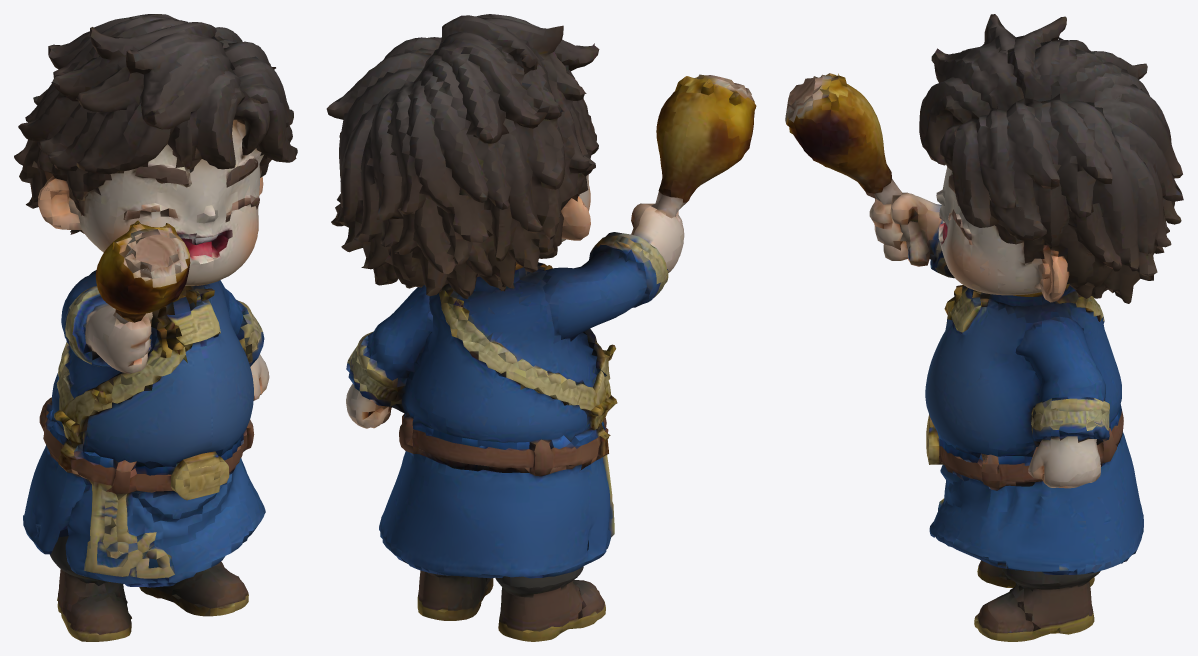
Rendered from guzangongbu.glb.
3 renders of one model, left to right at view 1: azimuth 30°, elevation 25°; view 2: azimuth 150°, elevation 25°; view 3: azimuth 270°, elevation 25°, orthographic.
Bounding box in the file's own units: 1.4 × 2.7 × 1.7.
1 material, 1 textured.
